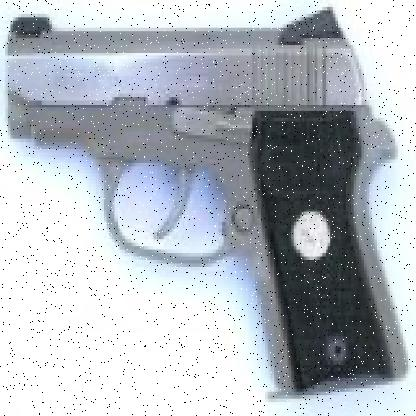pistol: (16, 3, 406, 395)
